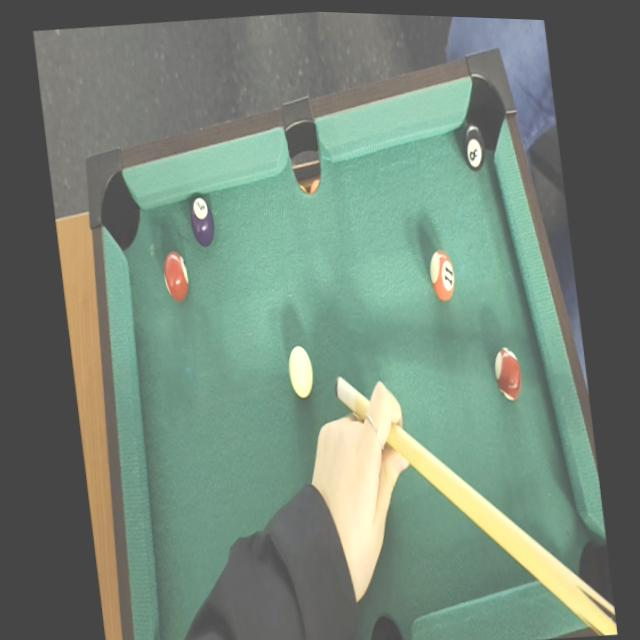cue ball: (283, 337, 318, 397)
other: (489, 336, 528, 399), (183, 184, 214, 248), (425, 247, 459, 305), (160, 245, 192, 306), (458, 120, 489, 177)
